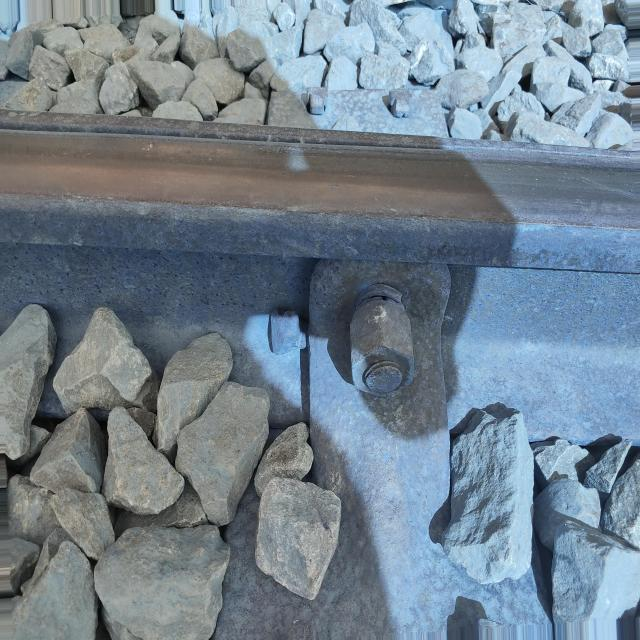non-defective: (1, 117, 638, 637)
